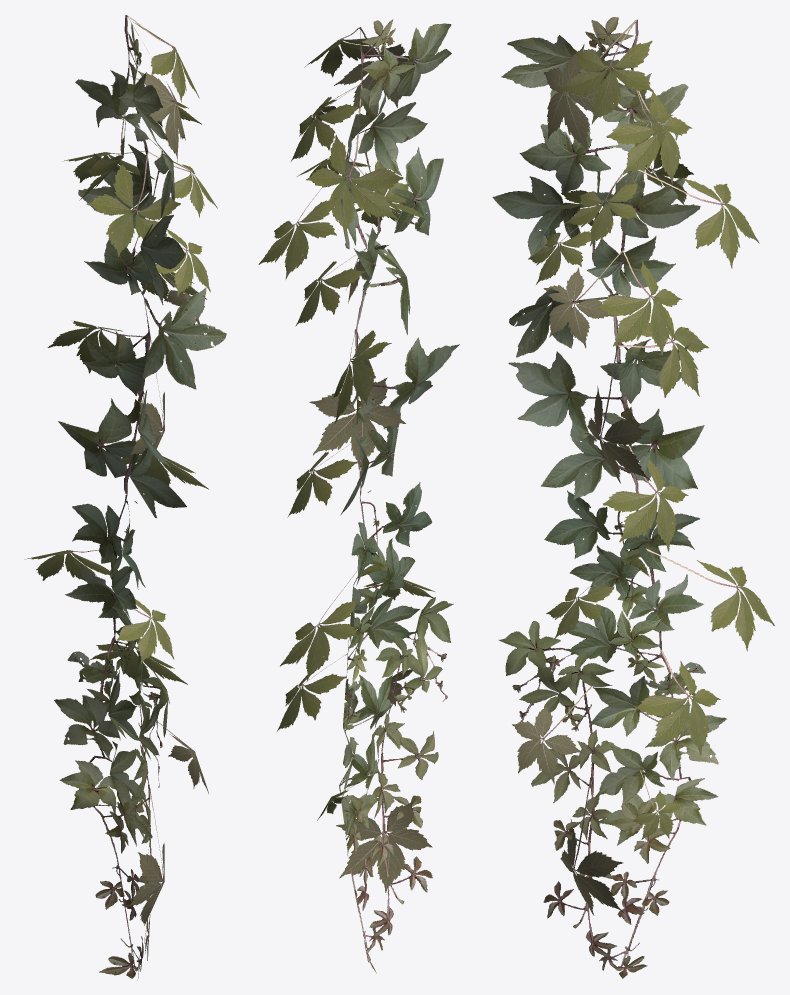
File: SM_Plant_Ivy_02.fbx
The picture shows the model from 3 angles, left to right: view 1: azimuth 30°, elevation 25°; view 2: azimuth 150°, elevation 25°; view 3: azimuth 270°, elevation 25°; orthographic projection. The views are drawn at different scales.
Visible parts, largest first — view 1: SM_Plant_Ivy_02; view 2: SM_Plant_Ivy_02; view 3: SM_Plant_Ivy_02.
Boxes of the visible parts, x1,y1,x2,y2 form: SM_Plant_Ivy_02: (24, 15, 226, 980); SM_Plant_Ivy_02: (258, 19, 459, 973); SM_Plant_Ivy_02: (492, 17, 774, 978).
Size of the model in its own units: 28.83 by 53.92 by 200.
Materials: 1 (1 with a texture image).
